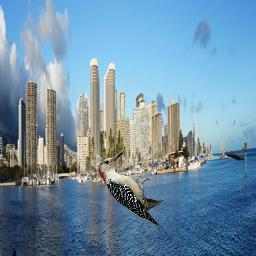Woodpecker: (98, 150, 164, 226)
